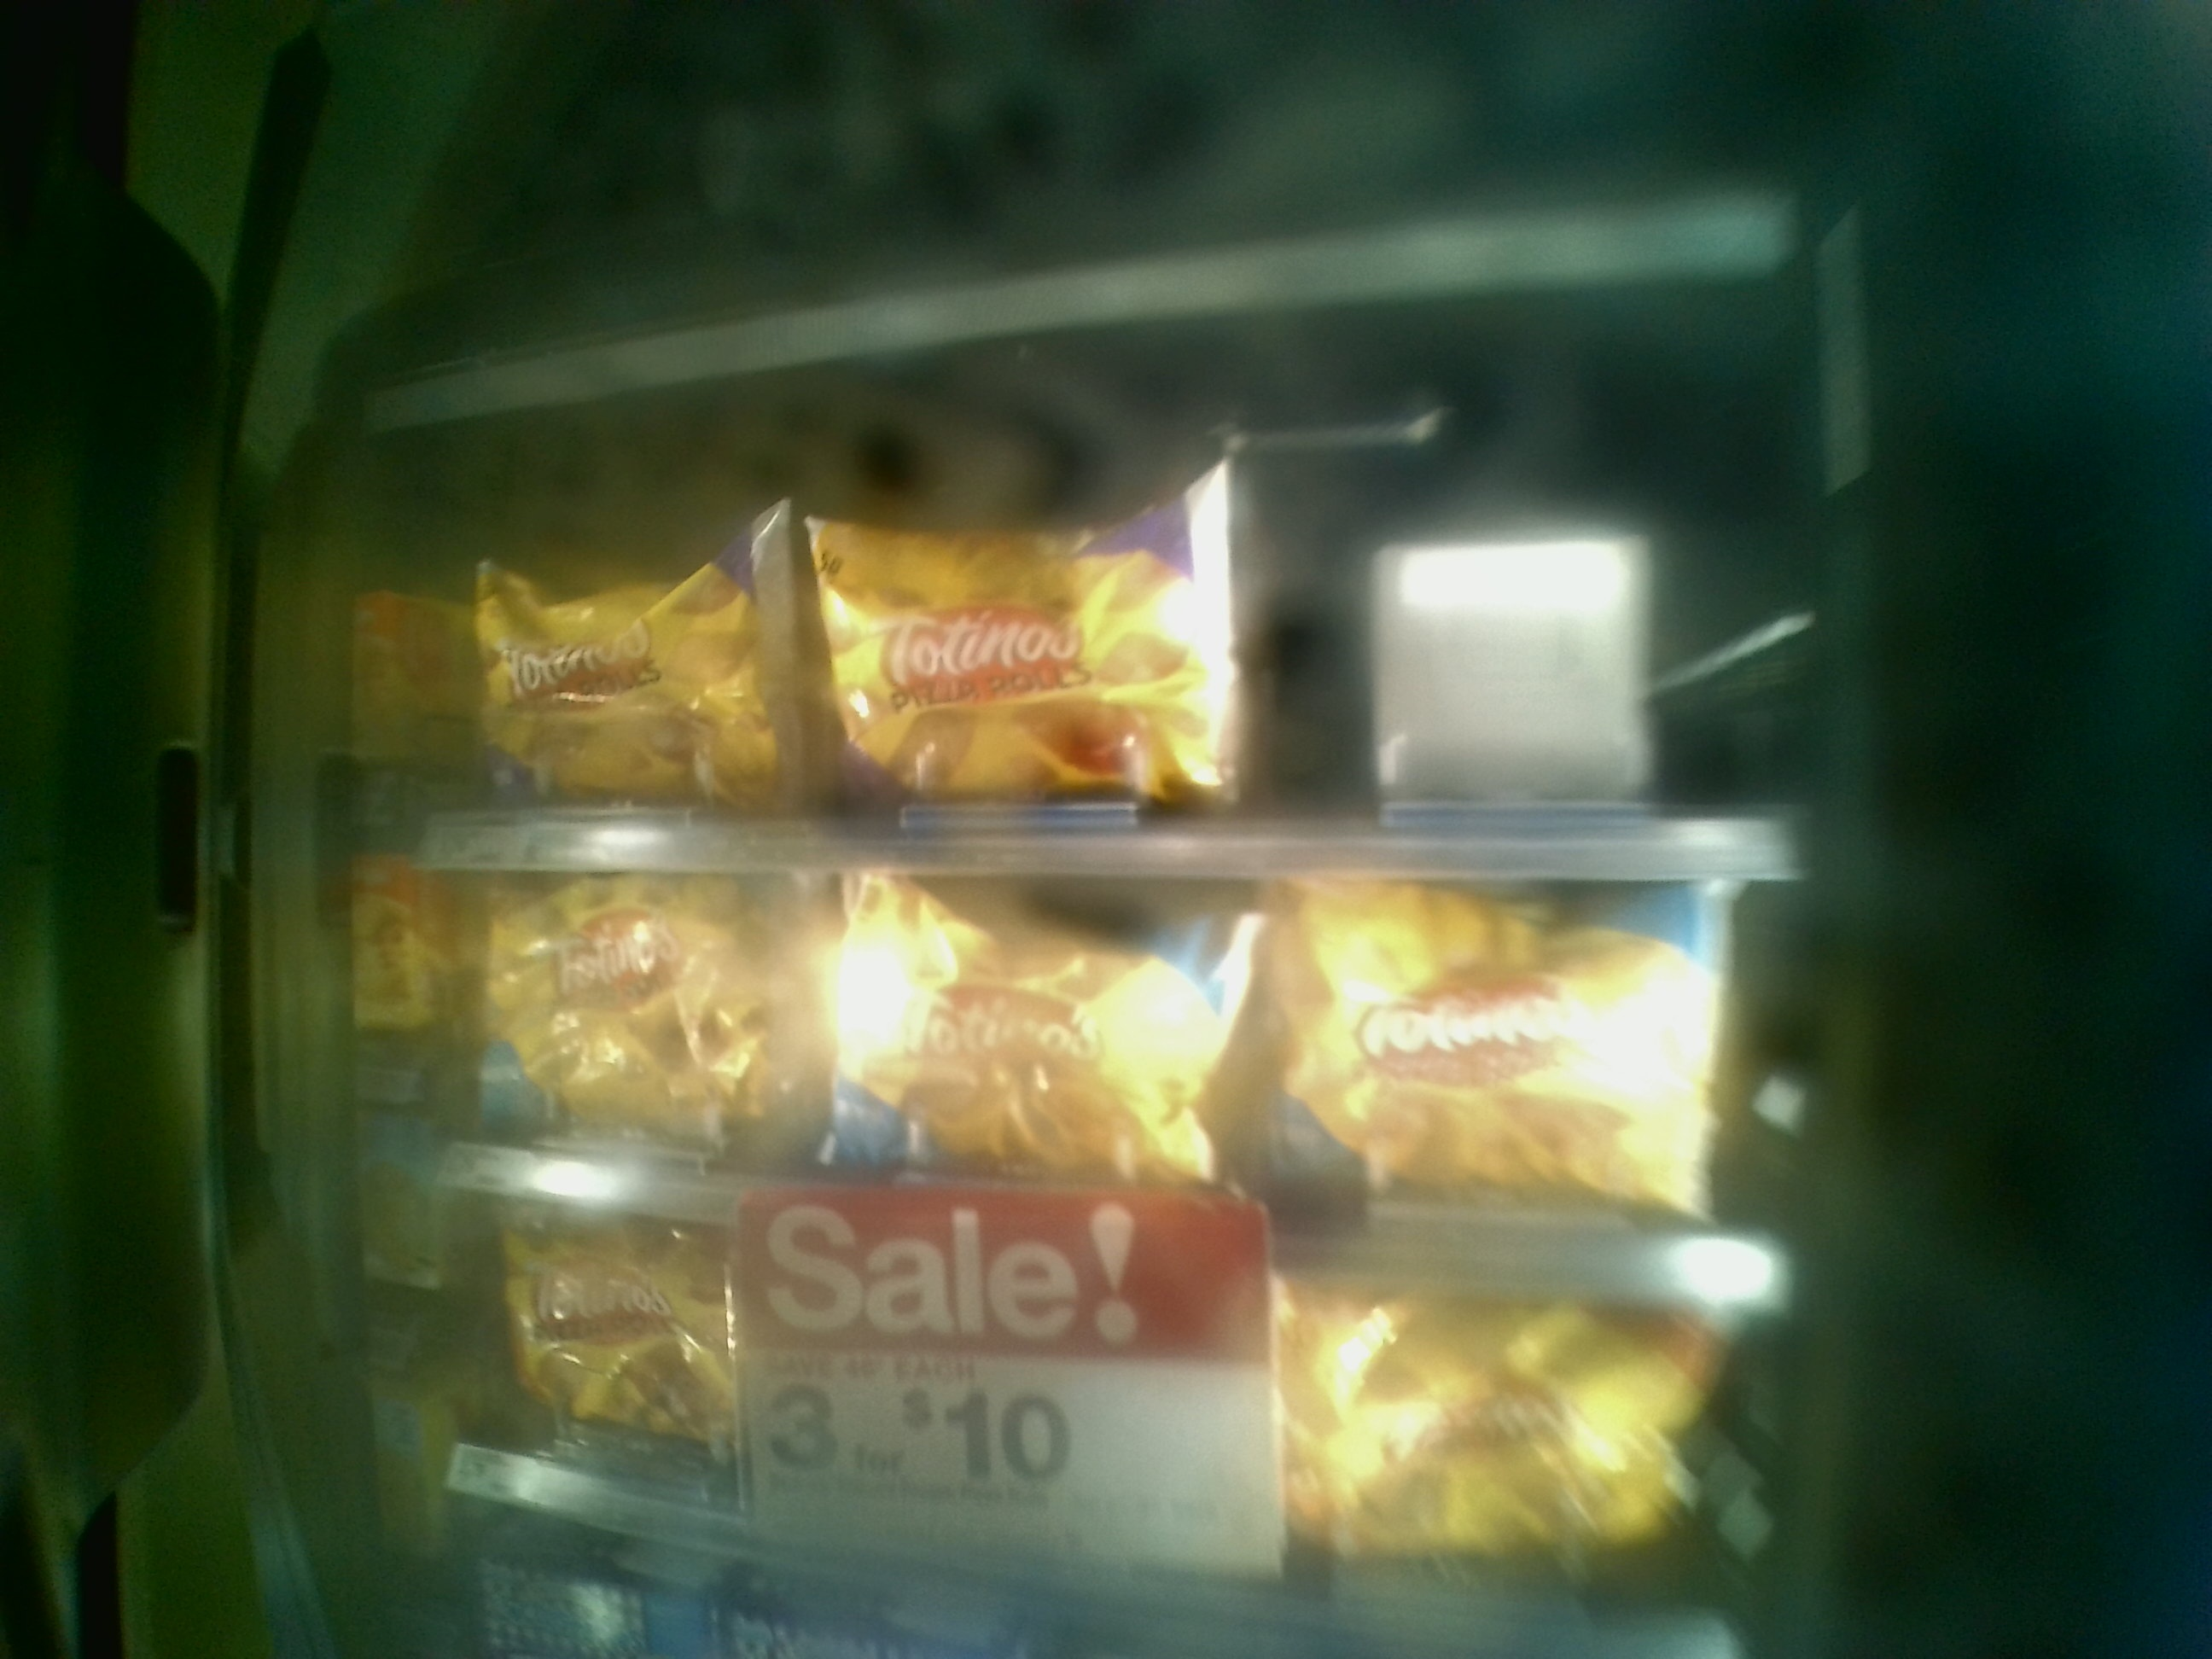shelf: (451, 854, 1787, 1295), (423, 471, 1792, 873)
